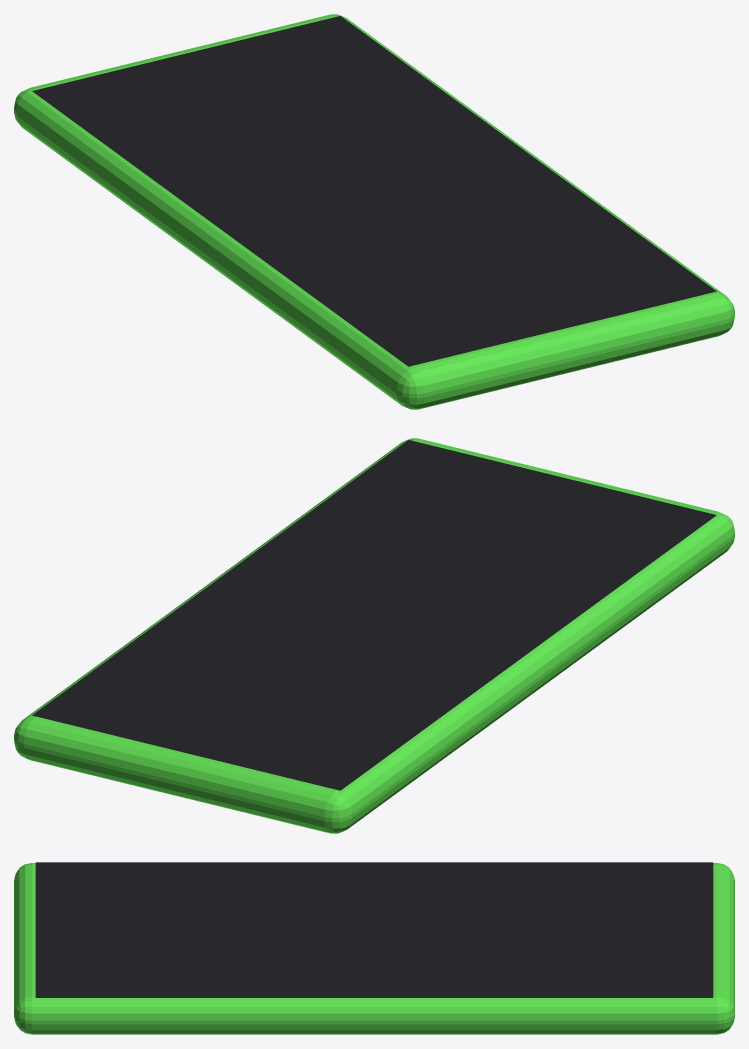
The model's file is oppo-find-x-model-316-budget-2024.glb.
The picture shows the model from 3 angles, top to bottom: view 1: azimuth 30°, elevation 25°; view 2: azimuth 150°, elevation 25°; view 3: azimuth 270°, elevation 25°; orthographic projection. The views are drawn at different scales.
Parts seen in each view (by area): view 1: Phone_Screen, Phone_Body; view 2: Phone_Screen, Phone_Body; view 3: Phone_Screen, Phone_Body.
Boxes of the visible parts, x1,y1,x2,y2 form: Phone_Screen: (32, 16, 716, 366); Phone_Body: (14, 14, 734, 409); Phone_Screen: (32, 440, 716, 790); Phone_Body: (14, 438, 734, 833); Phone_Screen: (35, 862, 713, 997); Phone_Body: (14, 863, 734, 1034).
Bounding box in the file's own units: 0.0729 × 0.0085 × 0.1508.
